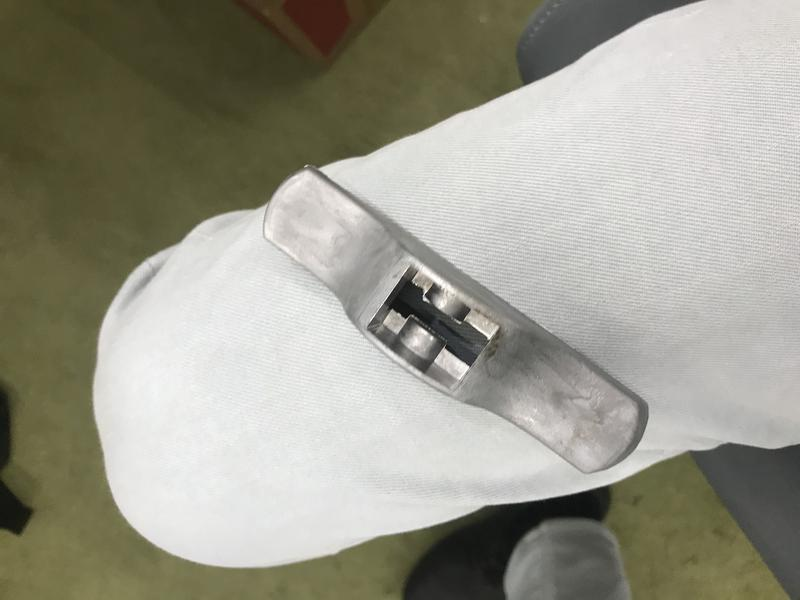zapchast: (255, 152, 661, 486)
